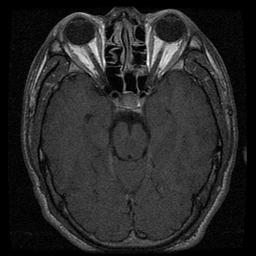Tumour-Pituitary: (105, 90, 148, 117)
